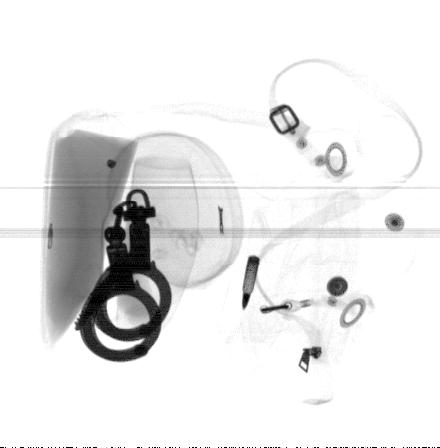Bullet: (242, 254, 261, 313)
HandCuffs: (72, 188, 175, 363)
